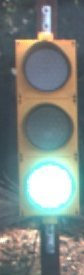Green: (12, 22, 83, 240)
